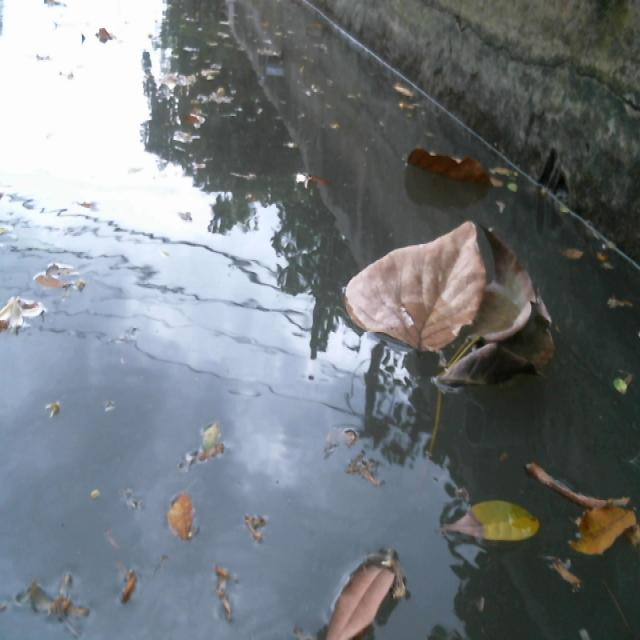Big-leaf: (324, 205, 560, 410), (522, 451, 640, 588), (408, 139, 522, 202)
Small-leaf: (327, 544, 407, 640), (437, 485, 544, 556), (168, 473, 224, 573), (23, 569, 97, 635), (185, 424, 248, 490), (607, 356, 640, 410), (391, 74, 424, 117)
